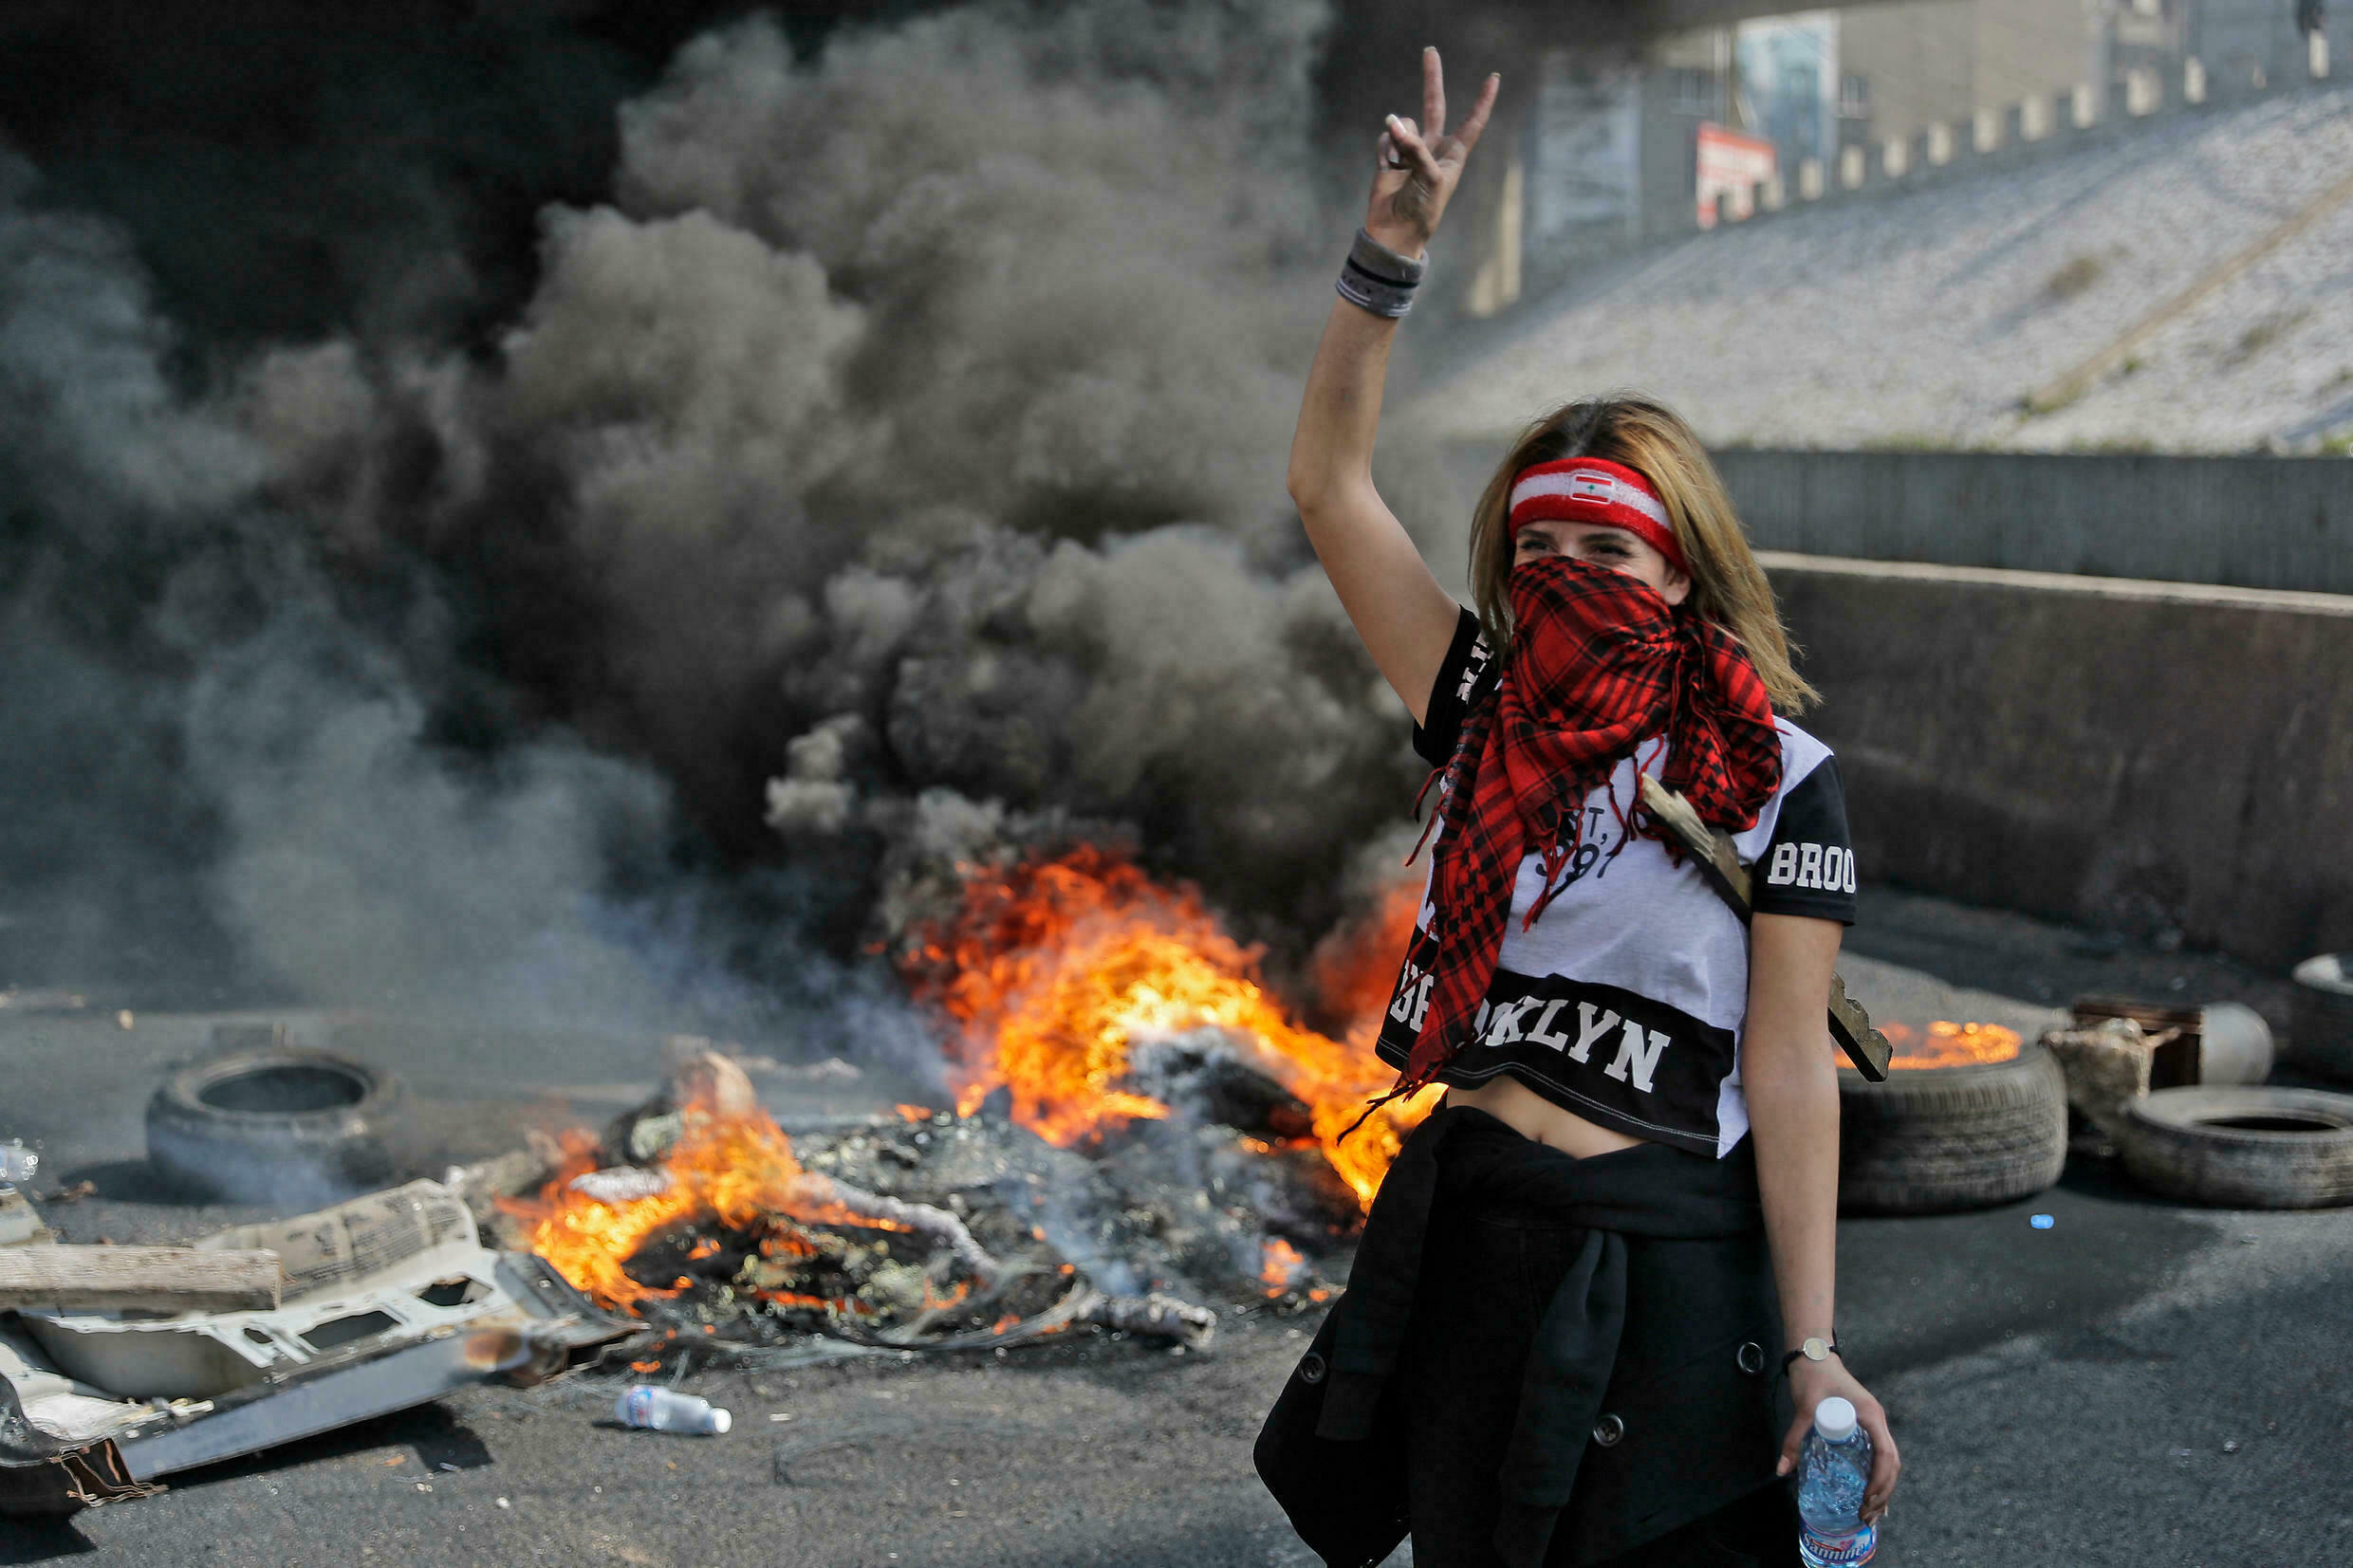with_mask: (1510, 517, 1663, 641)
